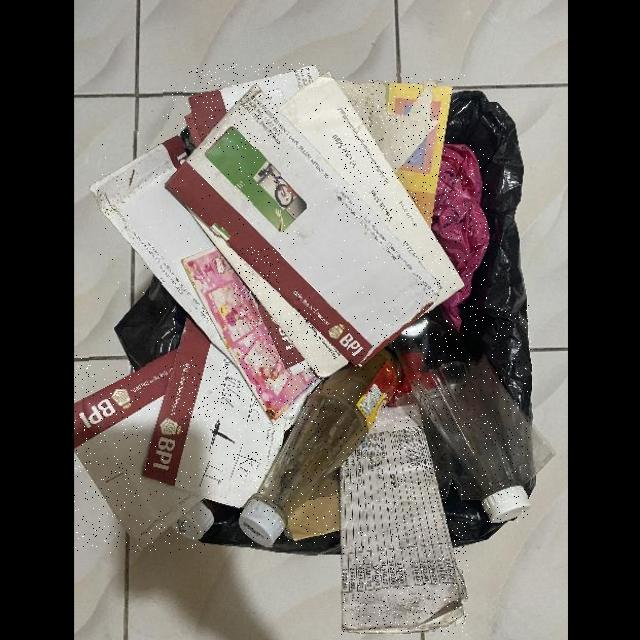glass: (241, 347, 407, 546), (388, 305, 531, 523)
paper: (163, 83, 443, 370), (281, 74, 465, 308), (89, 132, 235, 365), (142, 314, 310, 509), (341, 400, 469, 635), (185, 204, 348, 380), (74, 350, 207, 553), (183, 248, 320, 426), (340, 77, 453, 227), (183, 64, 319, 149), (285, 476, 341, 539)
plastic: (429, 141, 490, 331)
